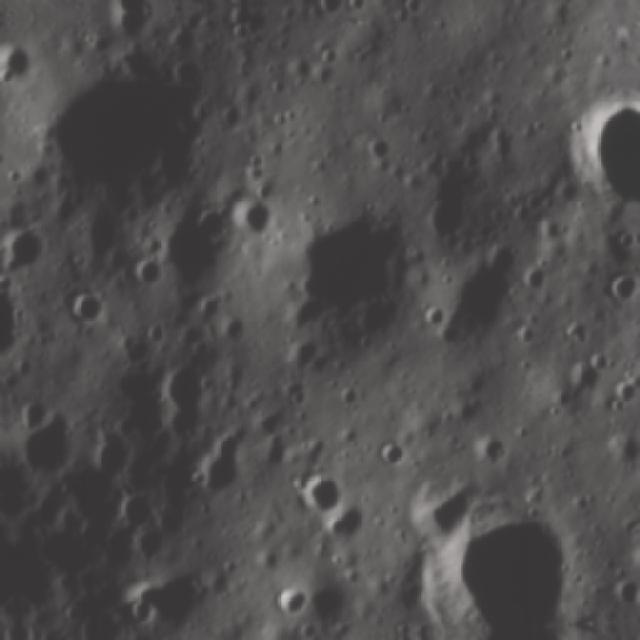crater: (32, 66, 210, 202), (404, 502, 582, 636), (280, 208, 417, 332), (566, 89, 634, 222), (147, 352, 225, 446), (12, 402, 86, 480), (180, 440, 254, 506), (82, 422, 146, 488), (282, 465, 347, 518), (0, 220, 51, 274), (112, 486, 162, 537), (0, 37, 52, 86), (564, 348, 610, 400), (231, 194, 280, 241), (268, 582, 318, 622), (61, 288, 110, 328), (122, 253, 167, 293), (72, 607, 125, 640), (603, 268, 640, 314), (108, 9, 157, 42), (368, 438, 409, 476), (120, 595, 162, 628), (214, 310, 252, 345), (614, 571, 640, 617), (215, 101, 250, 133), (363, 132, 399, 162), (626, 536, 640, 575)
